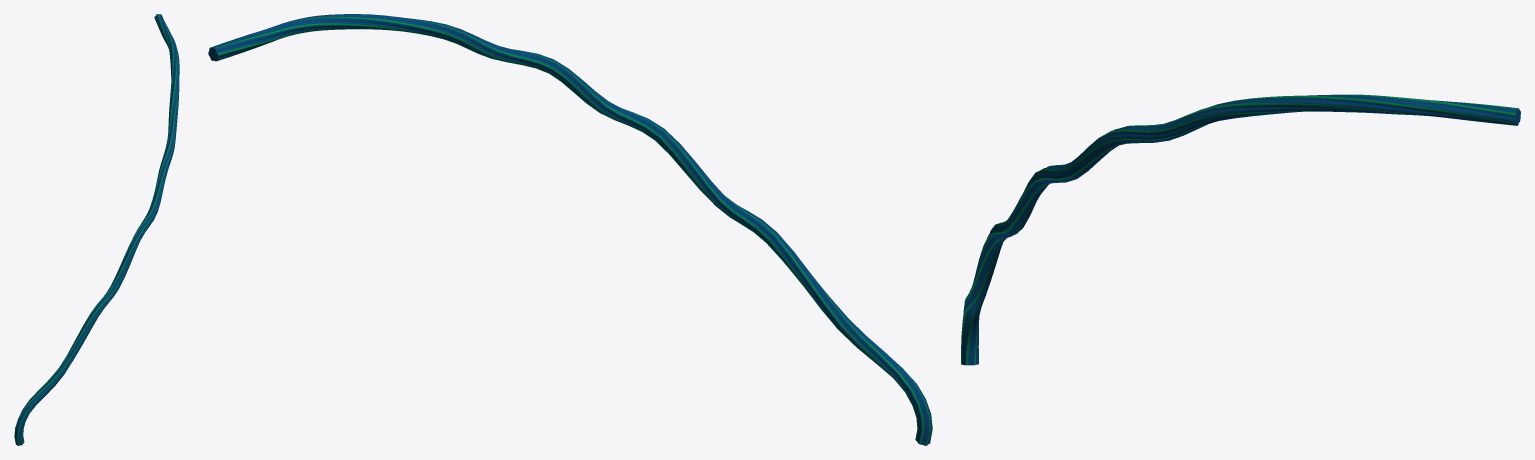
The model's file is cables 4.FBX.
3 renders of one model, left to right at view 1: azimuth 30°, elevation 25°; view 2: azimuth 150°, elevation 25°; view 3: azimuth 270°, elevation 25°, orthographic. The views are drawn at different scales.
Parts seen in each view (by area): view 1: Loft005; view 2: Loft005; view 3: Loft005.
Boxes of the visible parts, left/top/right/bottom form: Loft005: left=14, top=14, right=179, bottom=445; Loft005: left=208, top=14, right=932, bottom=445; Loft005: left=961, top=94, right=1520, bottom=365.
Bounding box in the file's own units: 633 × 560 × 540.
